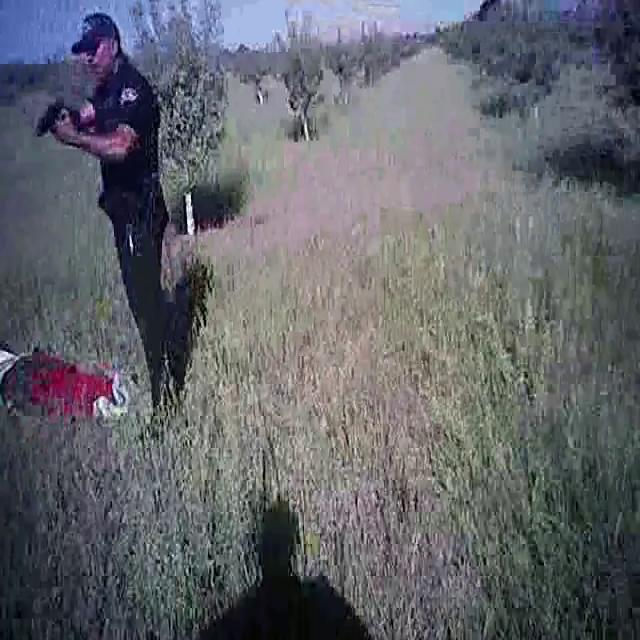gun: (29, 85, 85, 151)
